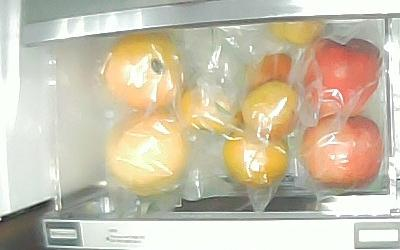apple_vinyl: (303, 36, 383, 115), (301, 112, 382, 189)
grapefruit_vinyl: (106, 110, 186, 194), (102, 31, 182, 110)
persimmon_vinyl: (224, 129, 288, 187), (180, 86, 240, 135)
prune_vinyl: (242, 79, 299, 138)
